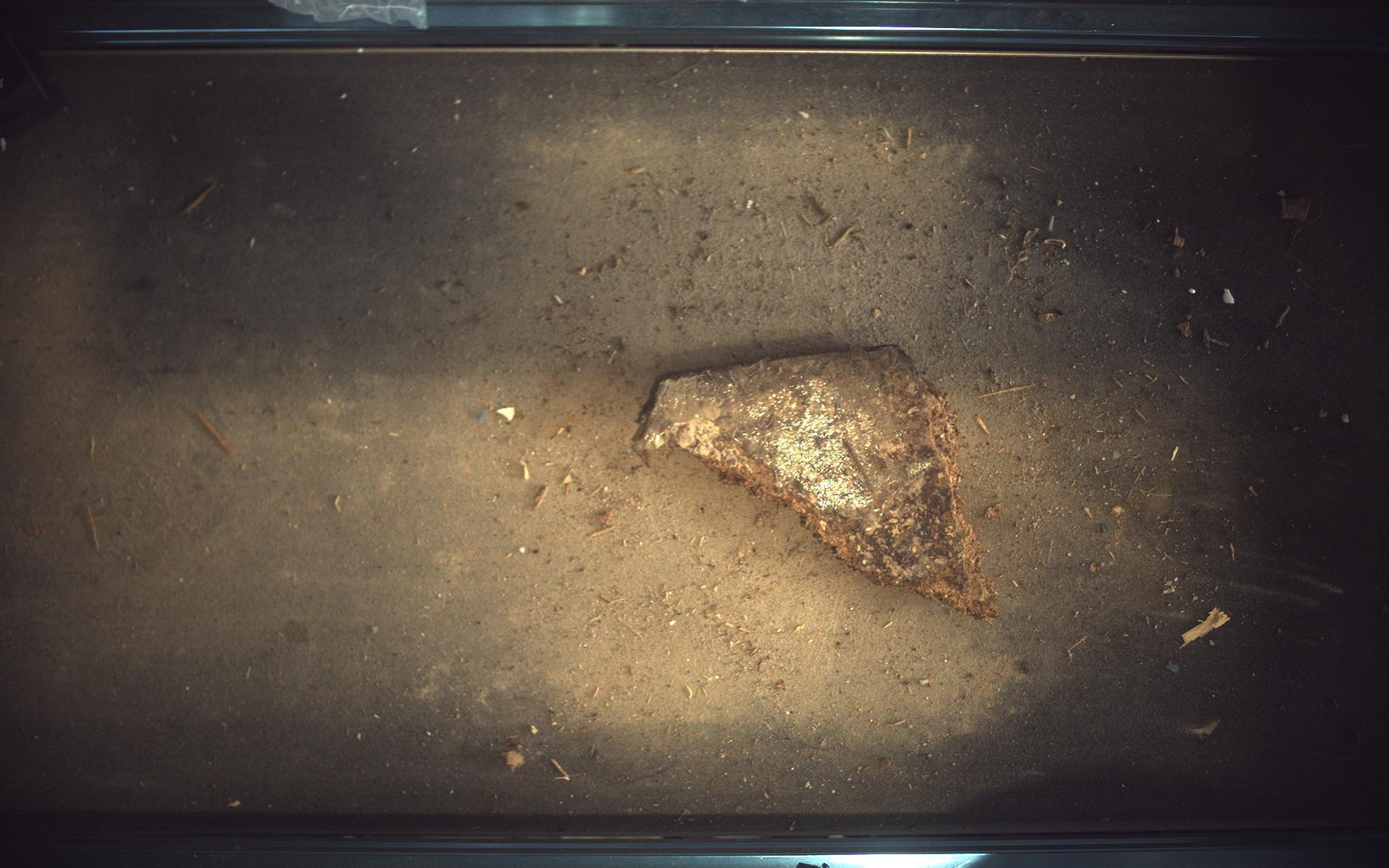wood: (637, 346, 1000, 619)
